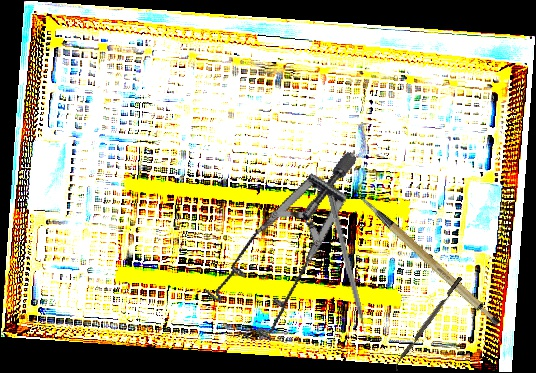Chopper: (391, 276, 467, 373)
Pusher: (326, 194, 371, 346)
Scalpel Handle: (360, 177, 504, 343)
Speculum: (177, 149, 409, 357)
